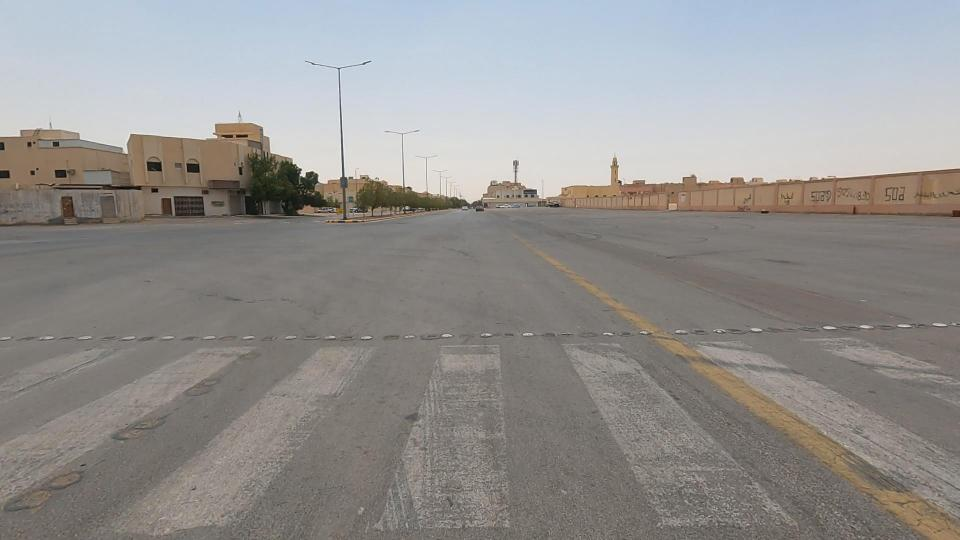GRAFFITI: (823, 147, 960, 233), (768, 142, 866, 247), (696, 156, 786, 235), (898, 149, 960, 232), (752, 166, 817, 227)
